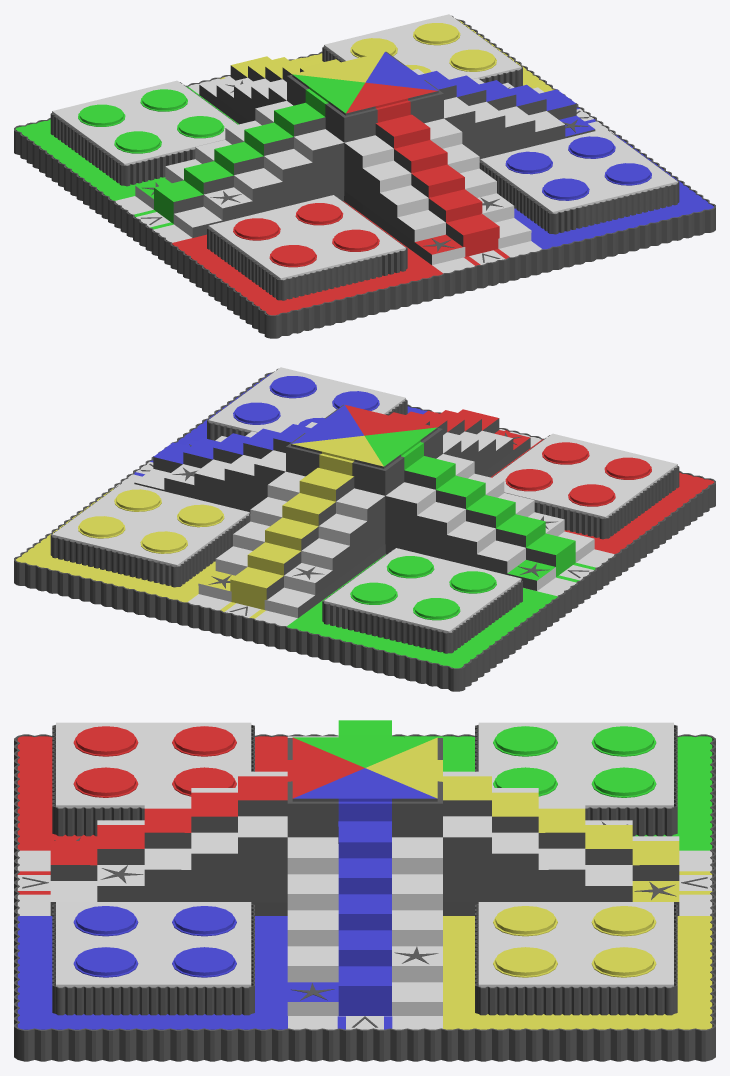
File: Ludo_Board.fbx
3 views of the same model, one above another, from view 1: azimuth 30°, elevation 25°; view 2: azimuth 150°, elevation 25°; view 3: azimuth 270°, elevation 25° (orthographic). The views are drawn at different scales.
Visible parts, largest first — view 1: polySurface17, polySurface5 (×4), polySurface2, polySurface31, polySurface1, polySurface6 (×4), group3_pCylinder4, group3_pCylinder7, group3_pCylinder5, group3_pCylinder6, polySurface30; view 2: polySurface17, polySurface5 (×4), polySurface2, polySurface31, polySurface1, polySurface6 (×4), group3_pCylinder7, group3_pCylinder4, group3_pCylinder6, group3_pCylinder5, polySurface30; view 3: polySurface17, polySurface5 (×4), polySurface1, polySurface31, polySurface2, polySurface6 (×4), group3_pCylinder5, group3_pCylinder6, group3_pCylinder4, group3_pCylinder7, polySurface30.
Part boxes in pixels (x1,y1,x2,y2): polySurface17: [135, 51, 595, 264]; polySurface5 (×4): [52, 14, 677, 279]; polySurface2: [14, 19, 715, 338]; polySurface31: [154, 56, 576, 246]; polySurface1: [15, 20, 713, 315]; polySurface6 (×4): [50, 15, 679, 300]; group3_pCylinder4: [233, 203, 379, 267]; group3_pCylinder7: [78, 89, 224, 153]; group3_pCylinder5: [505, 136, 651, 200]; group3_pCylinder6: [350, 23, 496, 73]; polySurface30: [141, 80, 588, 251]; polySurface17: [134, 404, 594, 617]; polySurface5 (×4): [52, 367, 677, 632]; polySurface2: [14, 372, 715, 691]; polySurface31: [153, 409, 575, 599]; polySurface1: [16, 373, 714, 668]; polySurface6 (×4): [50, 368, 679, 653]; group3_pCylinder7: [350, 556, 496, 620]; group3_pCylinder4: [505, 442, 651, 506]; group3_pCylinder6: [78, 489, 224, 553]; group3_pCylinder5: [233, 376, 379, 426]; polySurface30: [172, 432, 557, 588]; polySurface17: [50, 736, 679, 1015]; polySurface5 (×4): [56, 722, 673, 987]; polySurface1: [17, 736, 712, 1029]; polySurface31: [50, 720, 679, 1001]; polySurface2: [14, 734, 715, 1061]; polySurface6 (×4): [52, 725, 677, 1015]; group3_pCylinder5: [73, 906, 236, 977]; group3_pCylinder6: [493, 906, 656, 977]; group3_pCylinder4: [73, 726, 236, 797]; group3_pCylinder7: [493, 726, 656, 797]; polySurface30: [54, 737, 676, 1000].
Size of the model in its own units: 29.51 by 6.75 by 29.51.
